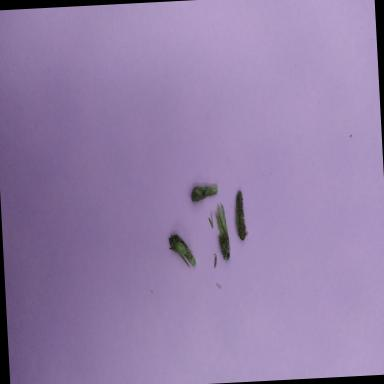pbw: (168, 229, 198, 270), (214, 201, 230, 262), (234, 190, 246, 240), (190, 182, 218, 203)
